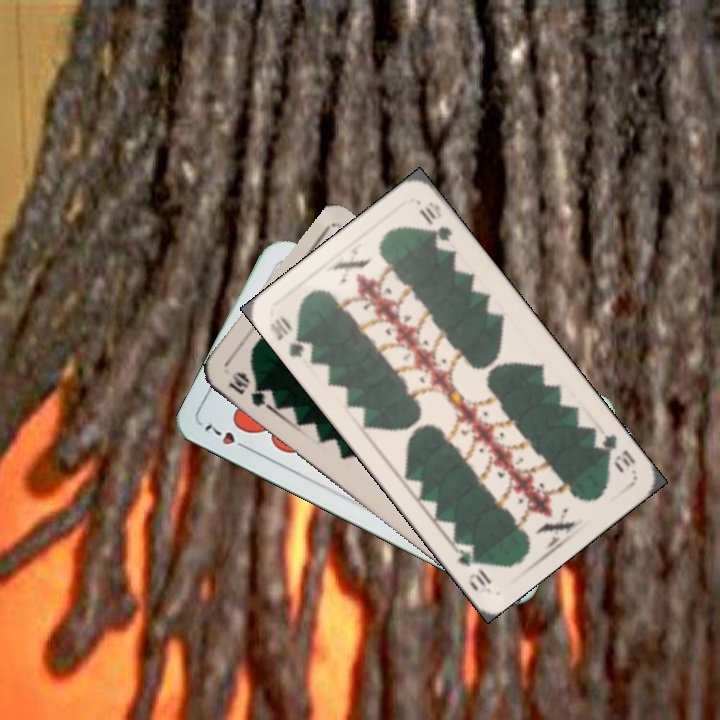G10: (265, 311, 316, 360), (224, 367, 273, 412), (595, 430, 638, 476)
H7: (200, 420, 254, 453)
